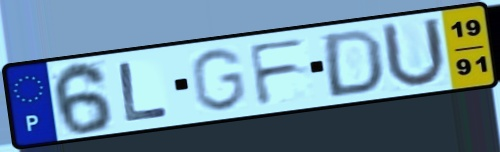6: (48, 59, 117, 136)
D: (322, 27, 386, 100)
F: (245, 35, 311, 108)
G: (187, 46, 249, 113)
L: (115, 59, 172, 124)
U: (378, 15, 451, 91)
